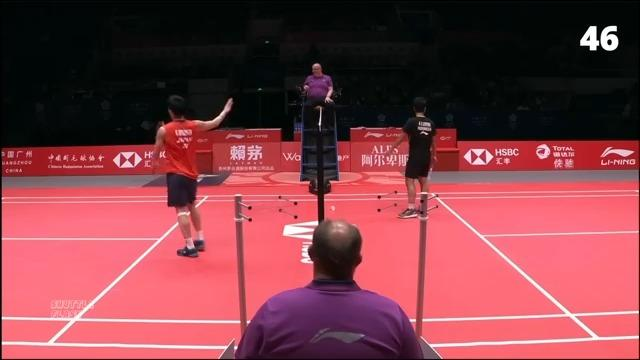Shuttlecock: (328, 204, 336, 214)
